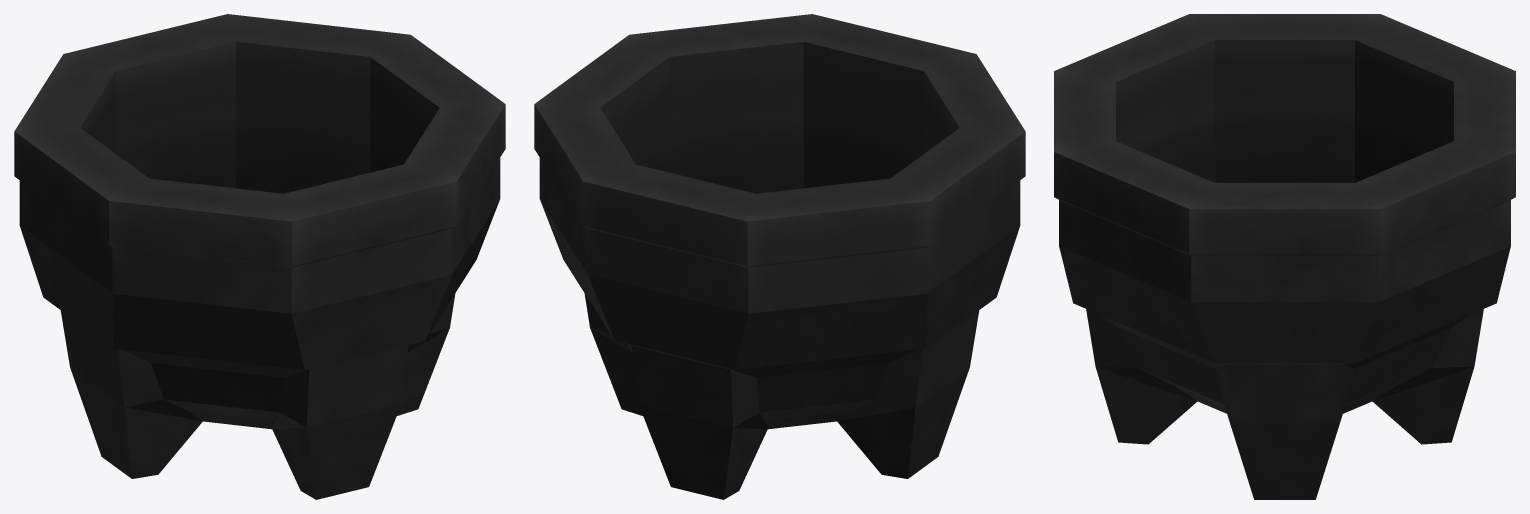
File: cauldron.obj
The picture shows the model from 3 angles, left to right: view 1: azimuth 30°, elevation 25°; view 2: azimuth 150°, elevation 25°; view 3: azimuth 270°, elevation 25°; orthographic projection.
Visible parts, largest first — view 1: cauldron_couldron; view 2: cauldron_couldron; view 3: cauldron_couldron.
Boxes of the visible parts, x1,y1,x2,y2 form: cauldron_couldron: (14,14,505,499); cauldron_couldron: (534,14,1025,499); cauldron_couldron: (1054,14,1515,499).
Bounding box in the file's own units: 0.9897 × 0.756 × 0.9897.
